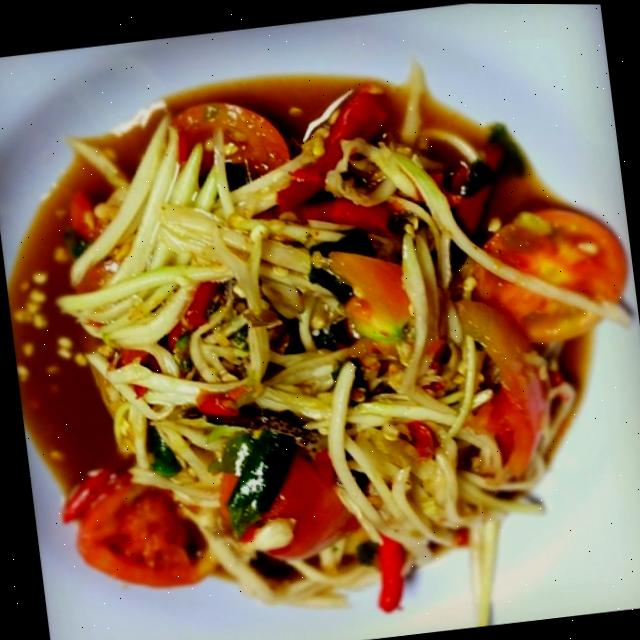蔬菜料理: (13, 24, 640, 640)
